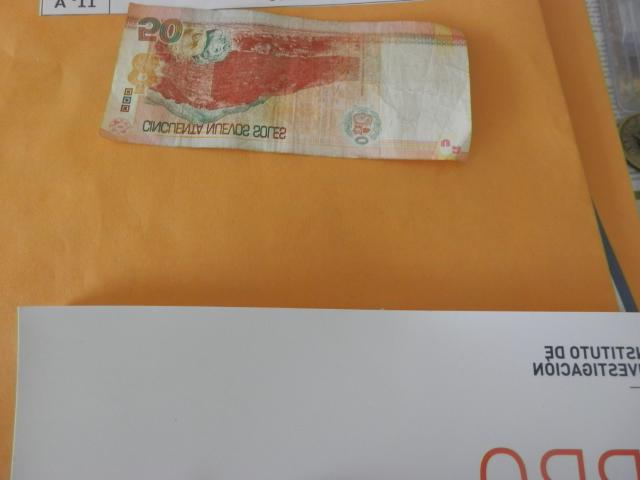B50: (99, 5, 475, 159)
